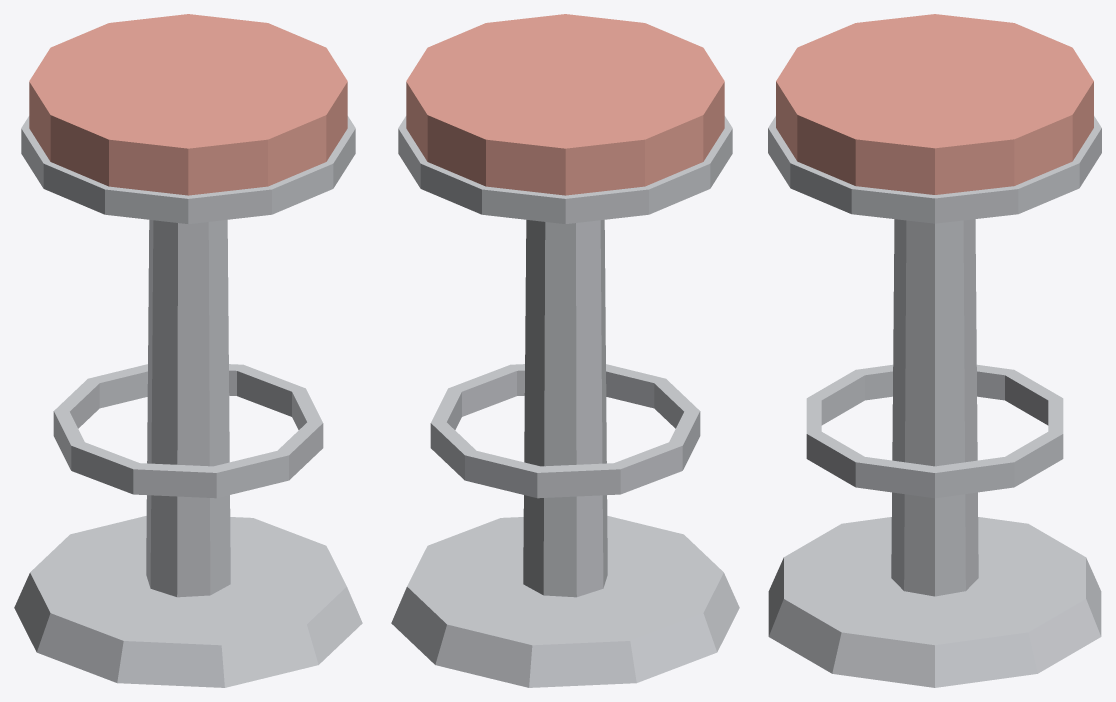
Rendered from retro-diner-and-roadside-motel-counter-stool-64a827d1__37324.glb.
3 views of the same model, side by side, from view 1: azimuth 30°, elevation 25°; view 2: azimuth 150°, elevation 25°; view 3: azimuth 270°, elevation 25° (orthographic).
Parts seen in each view (by area): view 1: counter-stool-chrome, seat/coral, seat/chrome; view 2: counter-stool-chrome, seat/coral, seat/chrome; view 3: counter-stool-chrome, seat/coral, seat/chrome.
Boxes of the visible parts, <box> form: counter-stool-chrome: <box>14,220,362,687</box>; seat/coral: <box>29,14,347,195</box>; seat/chrome: <box>21,116,355,224</box>; counter-stool-chrome: <box>391,220,739,687</box>; seat/coral: <box>406,14,724,195</box>; seat/chrome: <box>398,116,732,224</box>; counter-stool-chrome: <box>768,219,1101,687</box>; seat/coral: <box>776,14,1093,194</box>; seat/chrome: <box>768,116,1101,223</box>.
Size of the model in its own units: 0.44 by 0.74 by 0.42.
